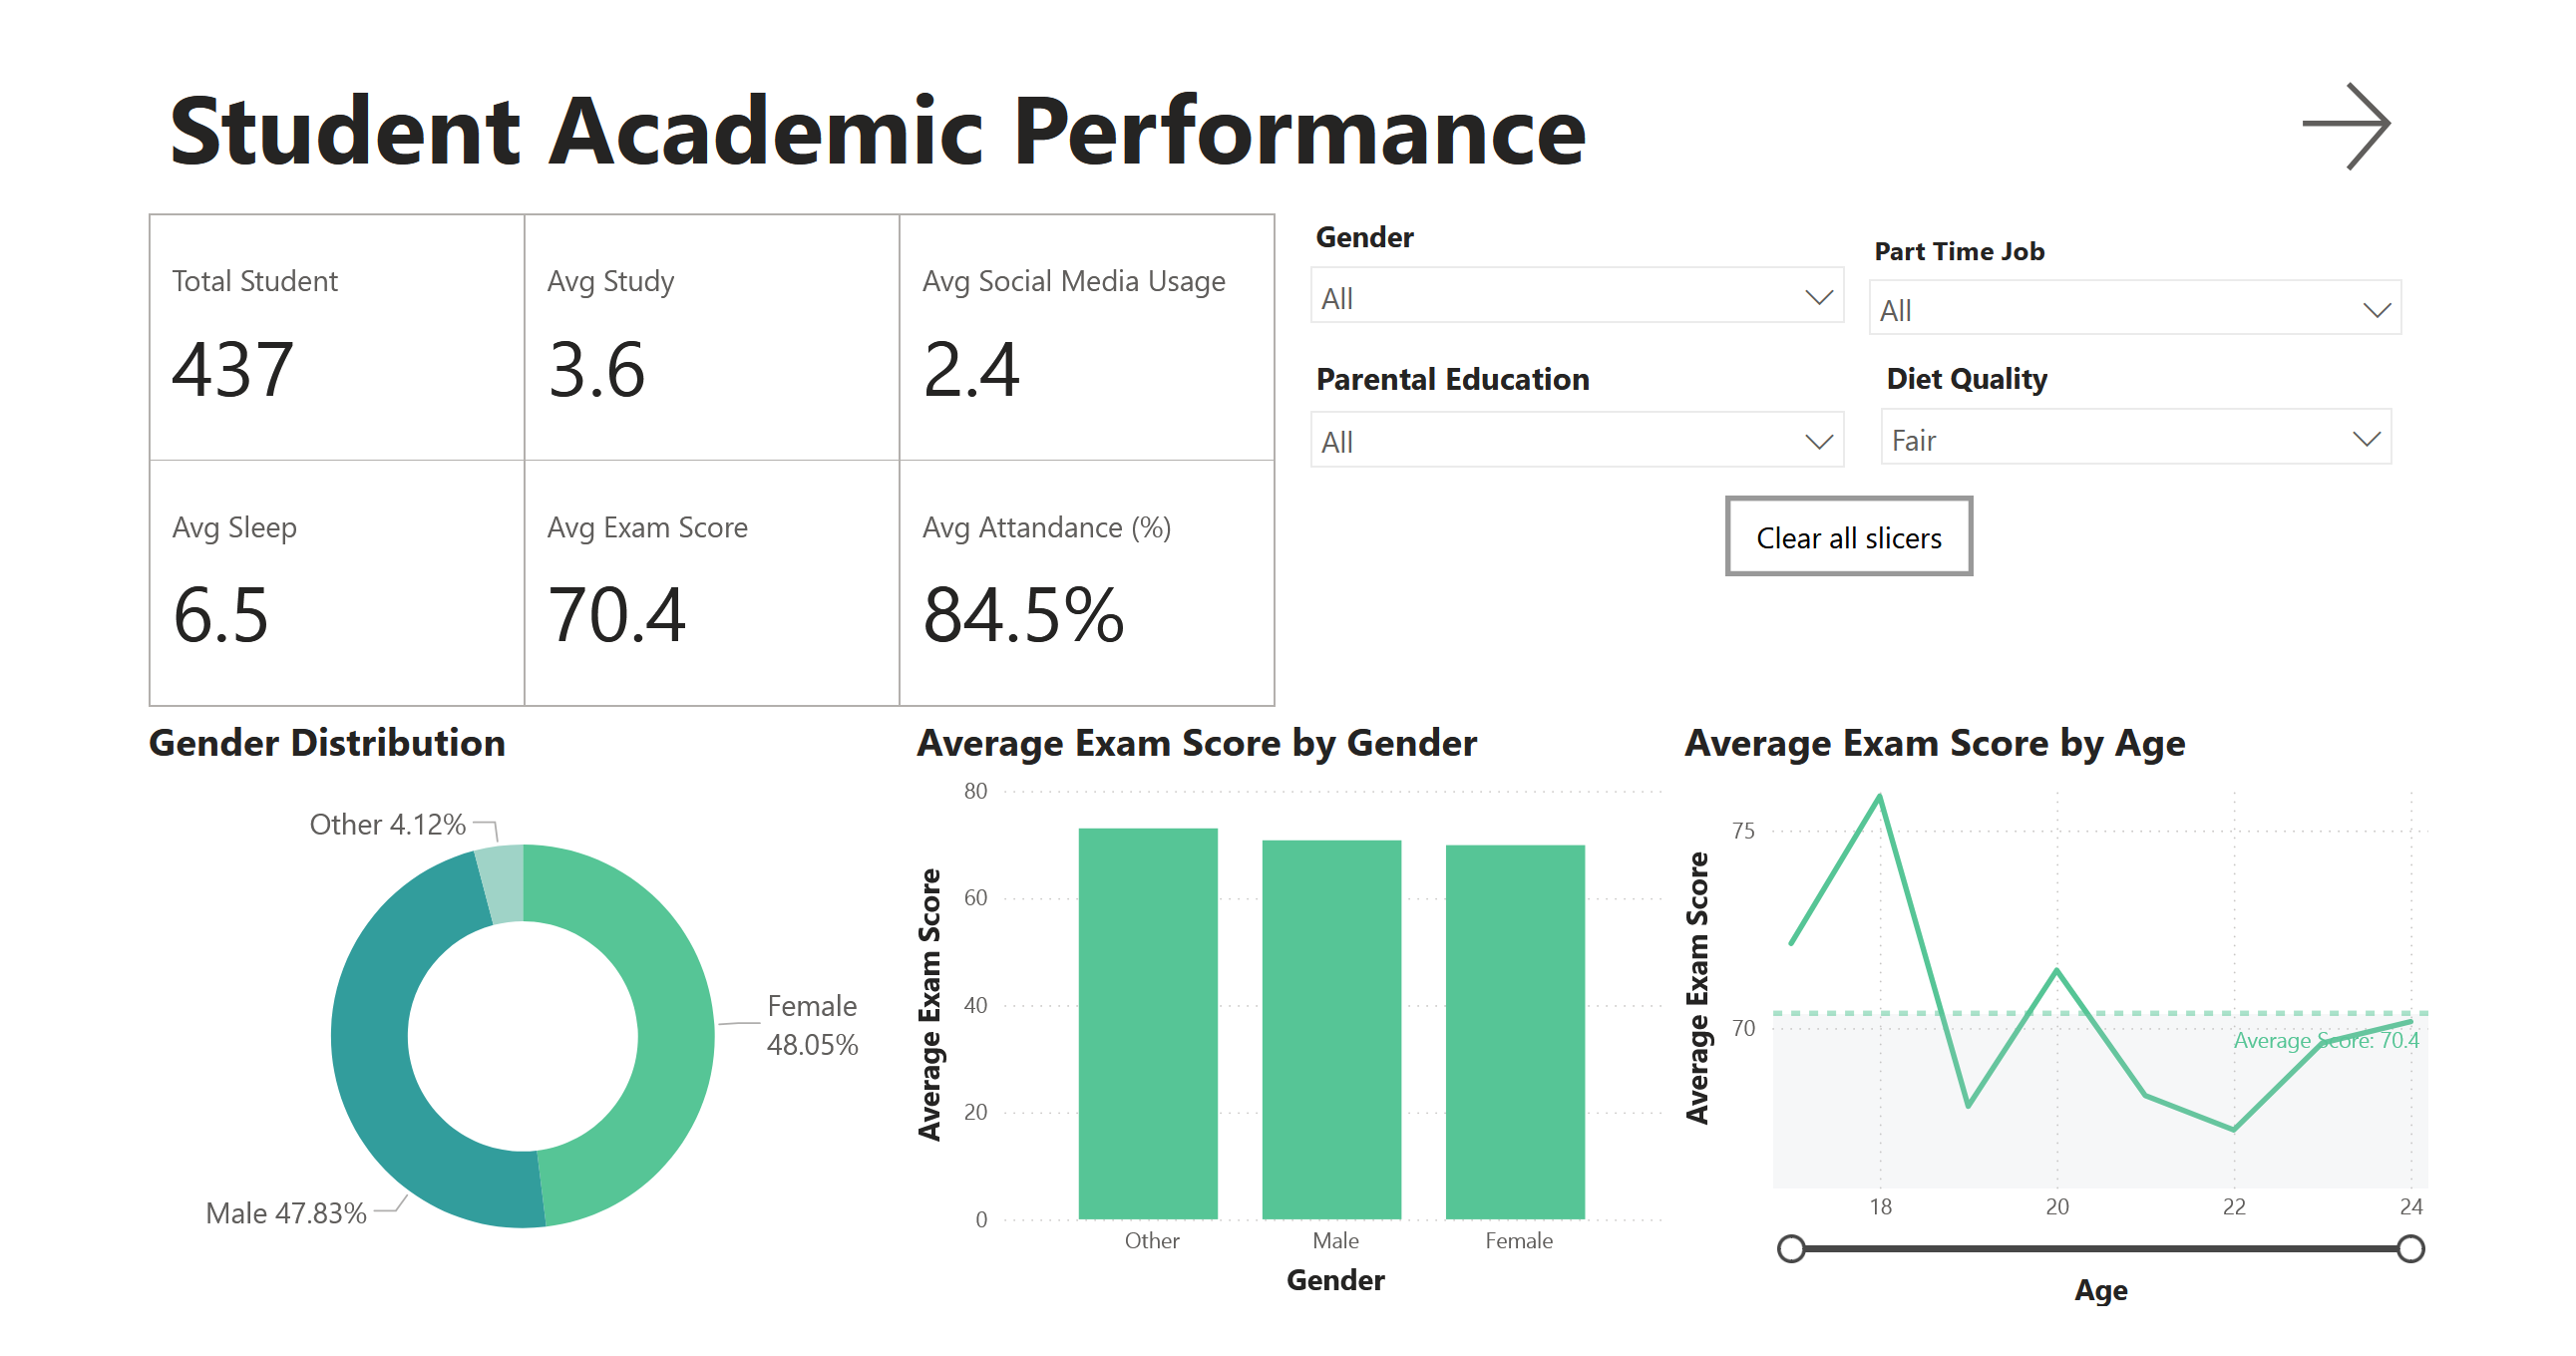

The dashboard page shown, as its layout file describes it:
{"tool":"powerbi","page":{"name":"Overview","canvas":[1280,720],"ordinal":0},"visuals":[{"type":"textbox","box":[11.2,19.6,820.1,84],"z":0},{"type":"cardVisual","fields":{"Data":["_Measures.Total Student","Avg(student_habits_performance_preprocess_v1.study_hours_per_day)","Avg(student_habits_performance_preprocess_v1.social_media_hours)","Avg(student_habits_performance_preprocess_v1.sleep_hours)","Avg(student_habits_performance_preprocess_v1.exam_score)","Avg(student_habits_performance_preprocess_v1.attendance_percentage)"]},"box":[0,105,638.3,285],"z":1000},{"type":"donutChart","title":"Gender Distribution","fields":{"Category":["student_habits_performance_preprocess_v1.gender"],"Y":["CountNonNull(student_habits_performance_preprocess_v1.gender)"]},"box":[0,390,427,330],"z":2000},{"type":"actionButton","box":[883.4,267.5,138.4,45.1],"z":3000},{"type":"lineChart","fields":{"Category":["student_habits_performance_preprocess_v1.age"],"Y":["Avg(student_habits_performance_preprocess_v1.exam_score)"]},"box":[855.4,390.4,424.6,329.7],"z":4000},{"type":"clusteredColumnChart","fields":{"Y":["Avg(student_habits_performance_preprocess_v1.exam_score)"],"Category":["student_habits_performance_preprocess_v1.gender"]},"box":[427.7,390.4,427.7,329.7],"z":5000},{"type":"slicer","fields":{"Values":["student_habits_performance_preprocess_v1.gender"]},"box":[642.5,106.2,317.5,67.5],"z":6000},{"type":"slicer","fields":{"Values":["student_habits_performance_preprocess_v1.parental_education_level"]},"box":[642.5,185,317.5,70],"z":7000},{"type":"slicer","fields":{"Values":["student_habits_performance_preprocess_v1.part_time_job"]},"box":[953.4,115.1,317.3,70],"z":8000},{"type":"slicer","fields":{"Values":["student_habits_performance_preprocess_v1.diet_quality"]},"box":[959.6,185.1,304.8,70],"z":9000},{"type":"actionButton","box":[1197.6,31.1,66.9,62.2],"z":10000}]}

Visuals, with their boxes on the page's 1280x720 design canvas (x1, y1, x2, y2). These are canvas units, not pixel positions in the 2576x1356 screenshot, which may show the page scaled, cropped or inside an application window:
textbox: (x1=11, y1=20, x2=831, y2=104)
cardVisual - _Measures.Total Student x Avg(student_habits_performance_preprocess_v1.study_hours_per_day): (x1=0, y1=105, x2=638, y2=390)
"Gender Distribution" donutChart: (x1=0, y1=390, x2=427, y2=720)
actionButton: (x1=883, y1=268, x2=1022, y2=313)
lineChart - student_habits_performance_preprocess_v1.age x Avg(student_habits_performance_preprocess_v1.exam_score): (x1=855, y1=390, x2=1280, y2=720)
clusteredColumnChart - Avg(student_habits_performance_preprocess_v1.exam_score) x student_habits_performance_preprocess_v1.gender: (x1=428, y1=390, x2=855, y2=720)
slicer - student_habits_performance_preprocess_v1.gender: (x1=642, y1=106, x2=960, y2=174)
slicer - student_habits_performance_preprocess_v1.parental_education_level: (x1=642, y1=185, x2=960, y2=255)
slicer - student_habits_performance_preprocess_v1.part_time_job: (x1=953, y1=115, x2=1271, y2=185)
slicer - student_habits_performance_preprocess_v1.diet_quality: (x1=960, y1=185, x2=1264, y2=255)
actionButton: (x1=1198, y1=31, x2=1264, y2=93)
